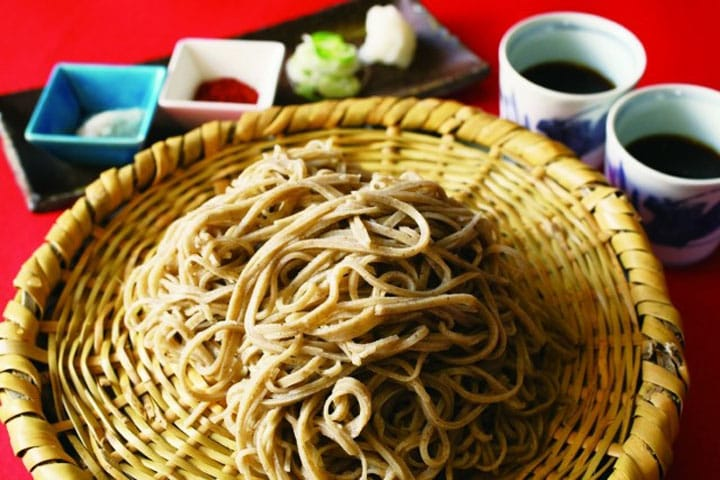Soba: (118, 153, 563, 470)
